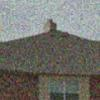chimneys: (44, 18, 57, 32)
